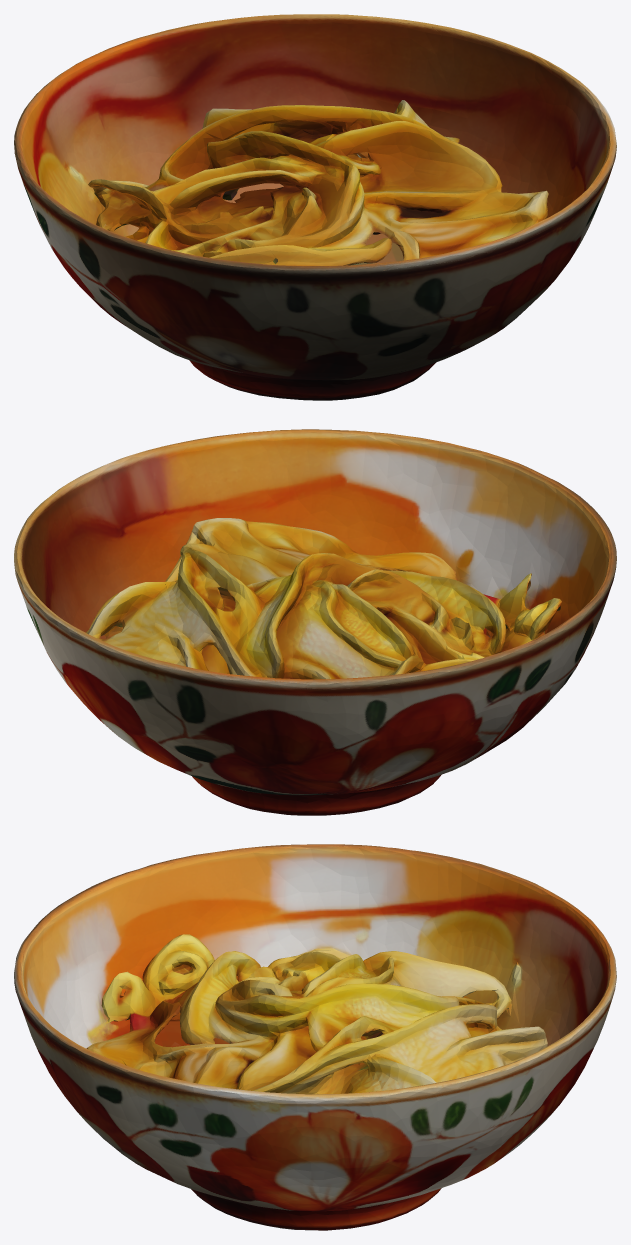
File: porcelain-pasta-bowl-rustic.jpeg.glb
3 renders of one model, top to bottom at view 1: azimuth 30°, elevation 25°; view 2: azimuth 150°, elevation 25°; view 3: azimuth 270°, elevation 25°, orthographic.
Visible parts, largest first — view 1: world; view 2: world; view 3: world.
Boxes of the visible parts, bbox=[...] form: world: bbox=[14, 14, 616, 400]; world: bbox=[14, 429, 616, 815]; world: bbox=[14, 844, 616, 1230].
Size of the model in its own units: 0.9996 by 0.3845 by 1.
Materials: 1 (1 with a texture image).
